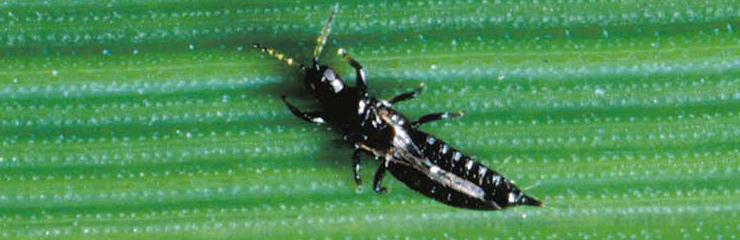Phlaeothripidae: (250, 5, 553, 215)
